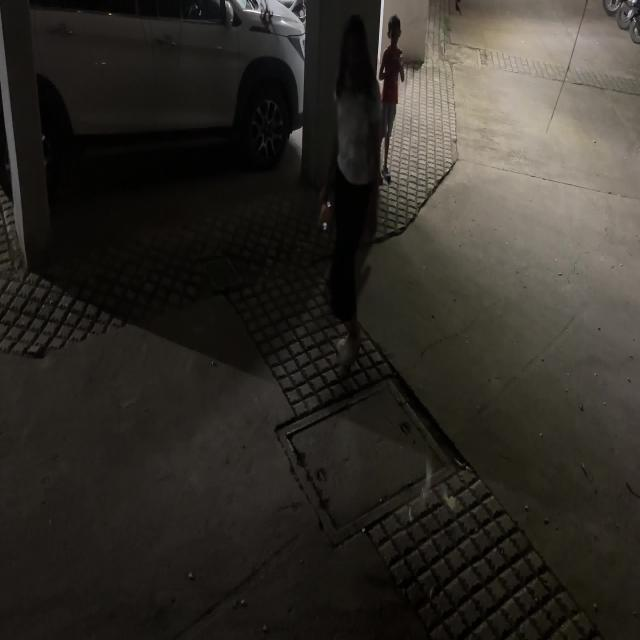human: (315, 22, 385, 370), (373, 12, 407, 190)
trash: (442, 483, 462, 521), (415, 474, 444, 496), (398, 506, 418, 522)
